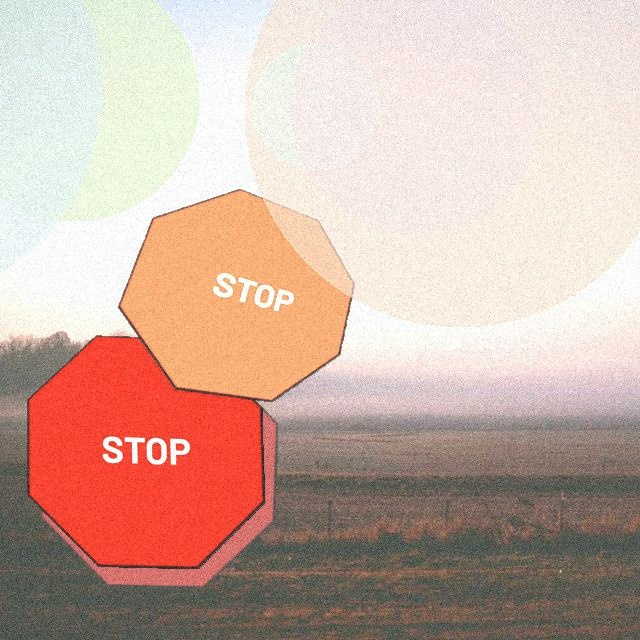FAKE_STOP: (40, 351, 278, 588)
STOP: (27, 335, 265, 569), (117, 188, 355, 402)
